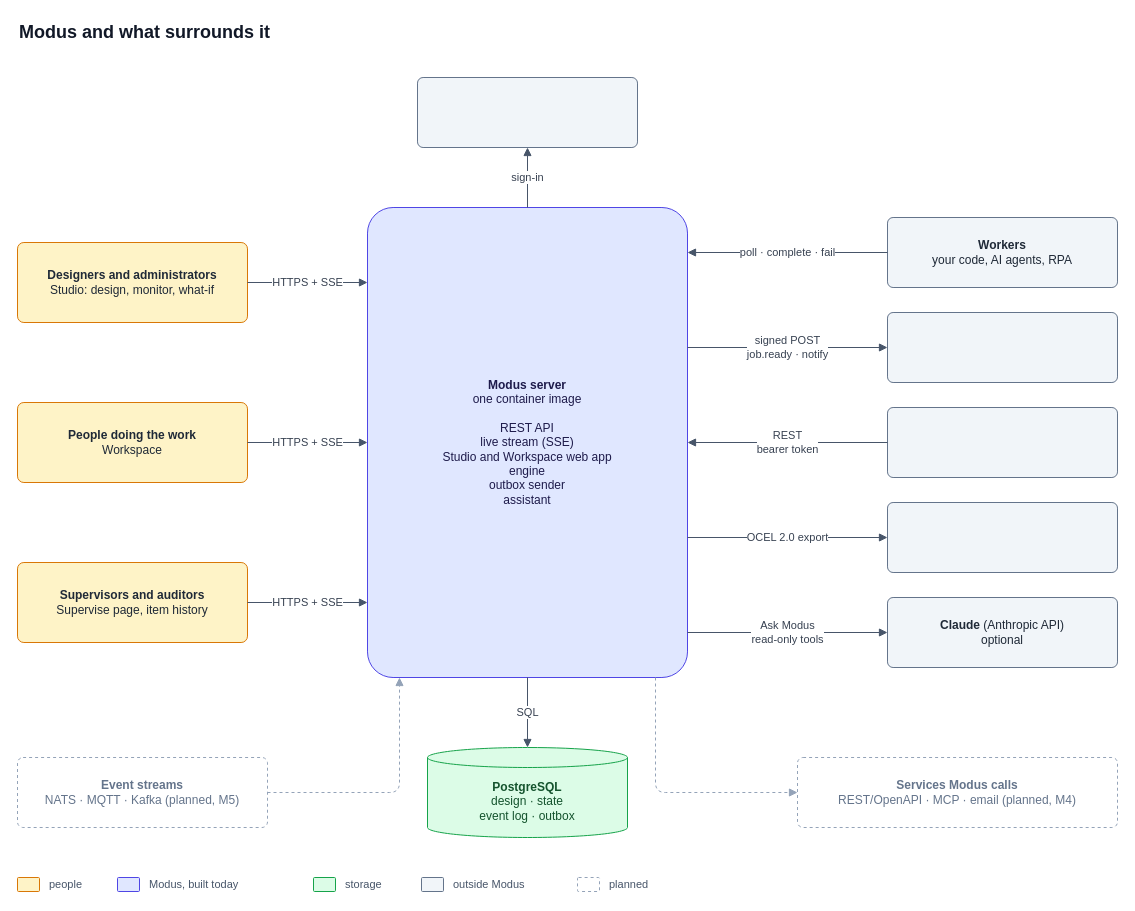
Image size: 1135x911. Some labels were removed from this diagram. The centre of each missing label's shape, as x and y in pixels:
"API clients scripts and other applications" goes at point (1002, 442).
"Identity provider OIDC (tested with Keycloak)" goes at point (527, 112).
"Process mining and BI" goes at point (1002, 537).
"Webhook receivers ERP, chat, an email relay" goes at point (1002, 347).
